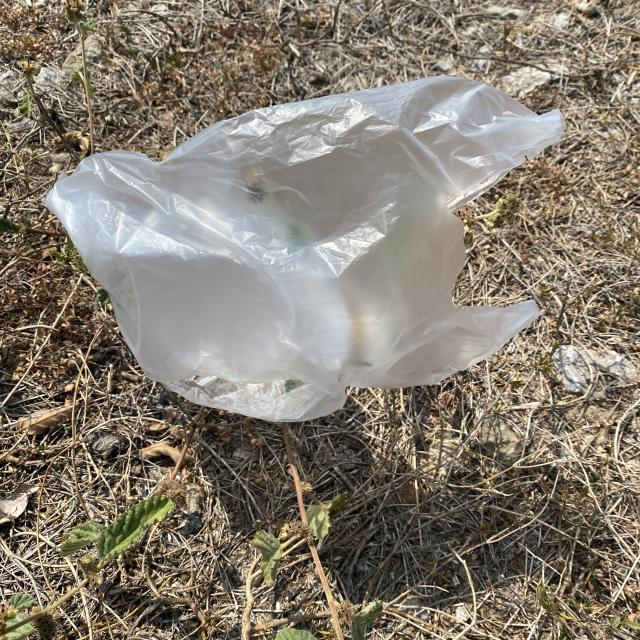Single-layer Plastic: (46, 76, 564, 421)
